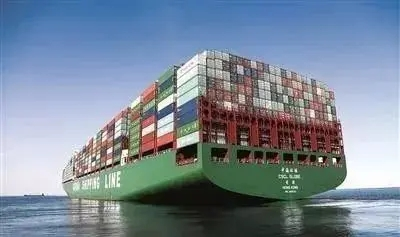Cargoship: (62, 48, 348, 199)
